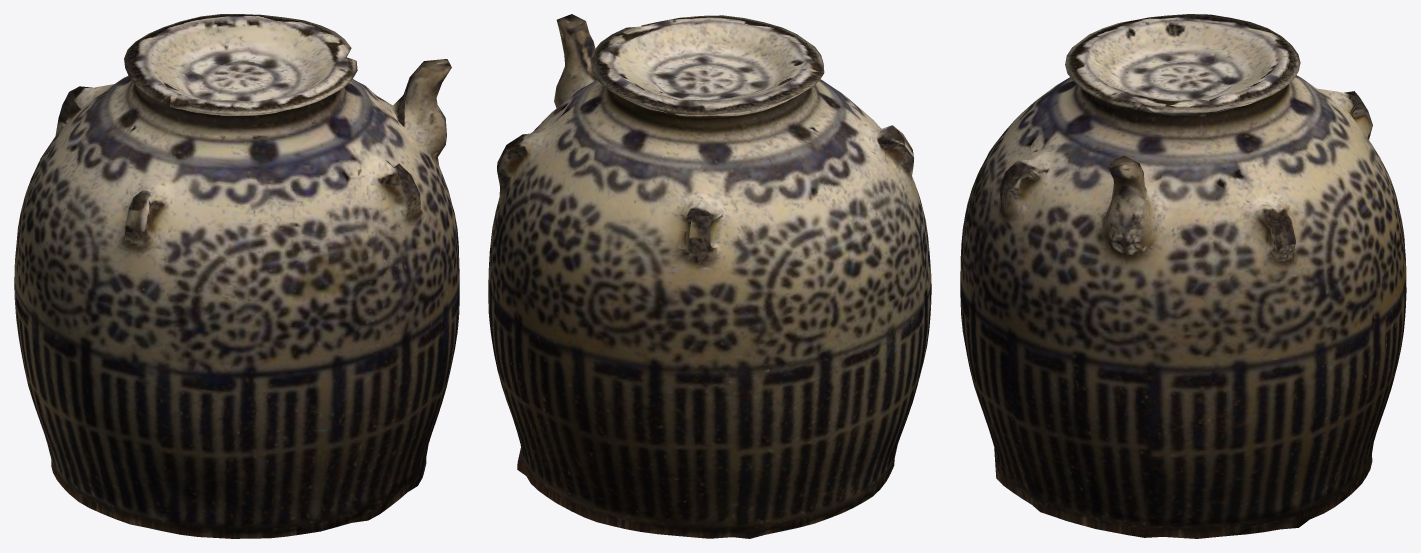
File: lowpoly_porcelainvase.glb
3 renders of one model, left to right at view 1: azimuth 30°, elevation 25°; view 2: azimuth 150°, elevation 25°; view 3: azimuth 270°, elevation 25°, orthographic.
Parts seen in each view (by area): view 1: LOWPOLYroundvasse; view 2: LOWPOLYroundvasse; view 3: LOWPOLYroundvasse.
Boxes of the visible parts, left/top/right/bottom form: LOWPOLYroundvasse: left=14, top=14, right=459, bottom=538; LOWPOLYroundvasse: left=488, top=14, right=931, bottom=538; LOWPOLYroundvasse: left=960, top=14, right=1406, bottom=538.
Bounding box in the file's own units: 13.59 × 13.6 × 13.58.
Materials: 1 (1 with a texture image).
